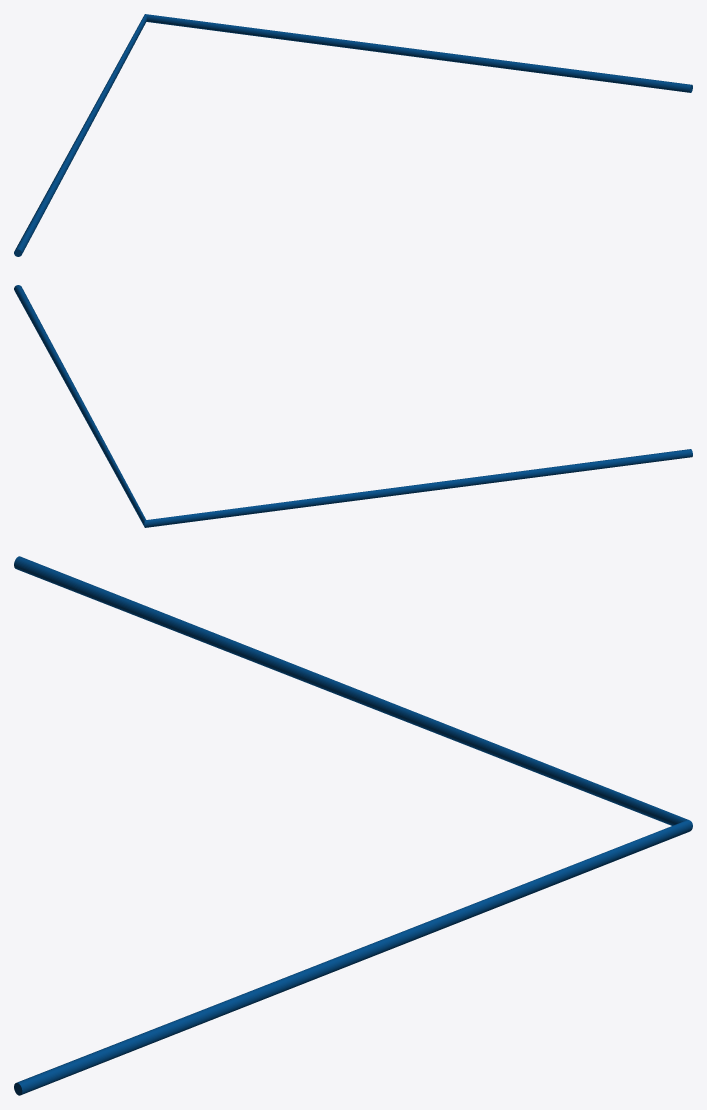
The picture shows the model from 3 angles, top to bottom: view 1: azimuth 30°, elevation 25°; view 2: azimuth 150°, elevation 25°; view 3: azimuth 270°, elevation 25°; orthographic projection. The views are drawn at different scales.
Parts seen in each view (by area): view 1: Cylinder.002; view 2: Cylinder.002; view 3: Cylinder.002.
Part boxes in pixels (x1,y1,x2,y2): Cylinder.002: [14, 14, 692, 256]; Cylinder.002: [14, 285, 692, 527]; Cylinder.002: [14, 556, 692, 1095].
Size of the model in its own units: 5.66 by 0.06 by 3.06.
